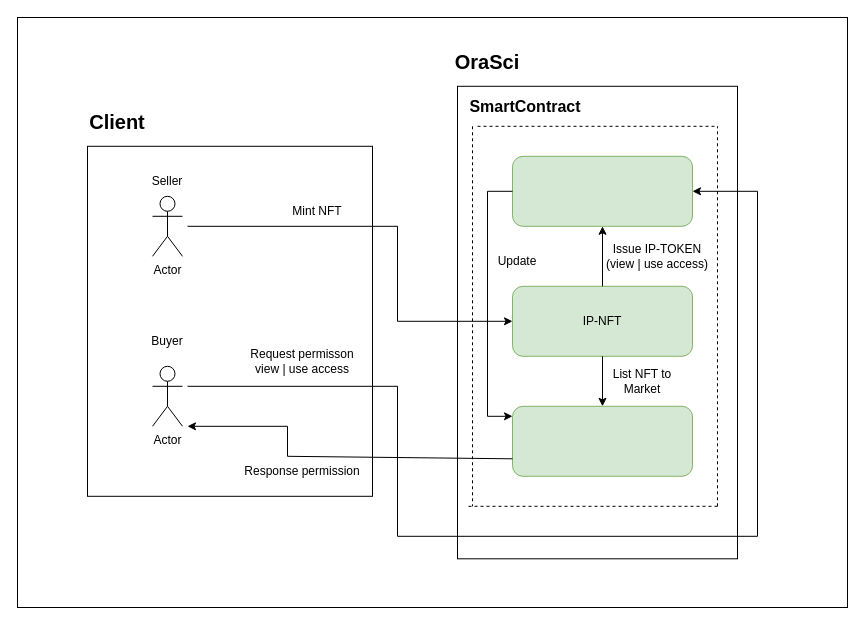
Image size: 865x625. Some labels were removed from this diagram. Here are the shapes that lost their labels. From the top down, the centre of each, then its label:
At (x=602, y=190): "IP-TOKENs".
At (x=602, y=440): "MarketPlace".
